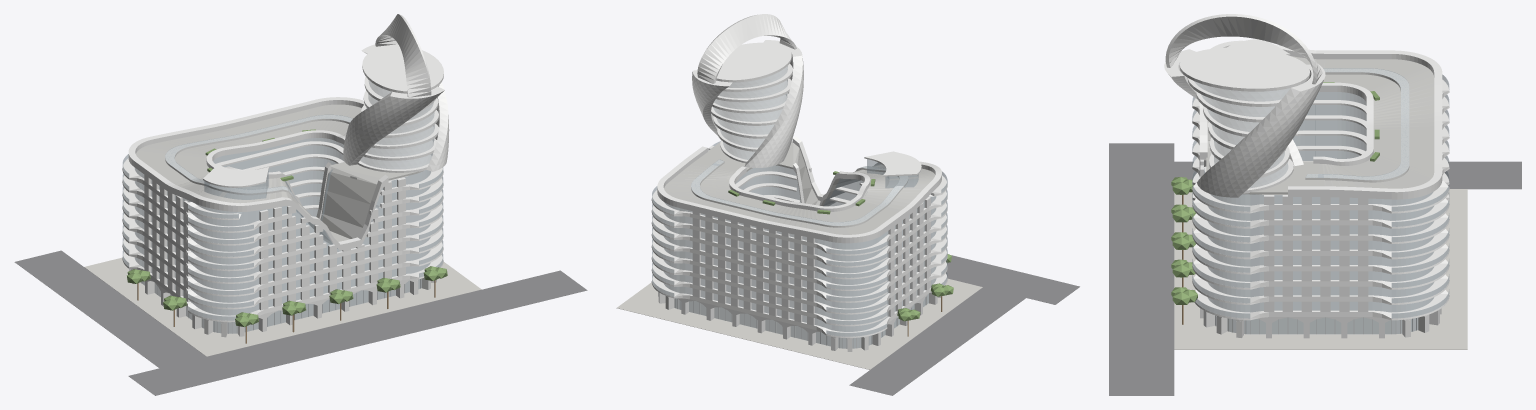
The model's file is clay-sculptural-superblock-clay-v002.glb.
3 renders of one model, left to right at view 1: azimuth 30°, elevation 25°; view 2: azimuth 150°, elevation 25°; view 3: azimuth 270°, elevation 25°, orthographic. The views are drawn at different scales.
Parts seen in each view (by area): view 1: CLAY_WHITE, CLAY_GLASS, CLAY_ASPHALT, CLAY_ROOF, CLAY_PAVING, CLAY_PLANTING, CLAY_PALE; view 2: CLAY_WHITE, CLAY_GLASS, CLAY_ASPHALT, CLAY_ROOF, CLAY_PAVING, CLAY_PALE, CLAY_PLANTING, CLAY_TRIM; view 3: CLAY_WHITE, CLAY_GLASS, CLAY_ASPHALT, CLAY_PAVING, CLAY_ROOF, CLAY_PALE, CLAY_PLANTING, CLAY_TRIM.
Part boxes in pixels (x1,y1,x2,y2): CLAY_WHITE: (122, 14, 449, 337); CLAY_GLASS: (122, 80, 443, 333); CLAY_ASPHALT: (14, 250, 587, 395); CLAY_ROOF: (136, 104, 423, 248); CLAY_PAVING: (84, 257, 481, 356); CLAY_PLANTING: (127, 129, 447, 326); CLAY_PALE: (165, 115, 356, 204); CLAY_WHITE: (651, 14, 947, 351); CLAY_GLASS: (652, 66, 947, 348); CLAY_ASPHALT: (849, 255, 1079, 395); CLAY_ROOF: (664, 142, 935, 234); CLAY_PAVING: (616, 278, 982, 369); CLAY_PALE: (691, 156, 908, 227); CLAY_PLANTING: (728, 171, 953, 321); CLAY_TRIM: (675, 296, 926, 348); CLAY_WHITE: (1164, 14, 1449, 338); CLAY_GLASS: (1192, 68, 1449, 334); CLAY_ASPHALT: (1109, 143, 1521, 395); CLAY_PAVING: (1174, 189, 1467, 349); CLAY_ROOF: (1206, 56, 1434, 194); CLAY_PALE: (1305, 68, 1409, 182); CLAY_PLANTING: (1171, 82, 1379, 304); CLAY_TRIM: (1215, 316, 1416, 334).
Bounding box in the file's own units: 110 × 62.56 × 76.
